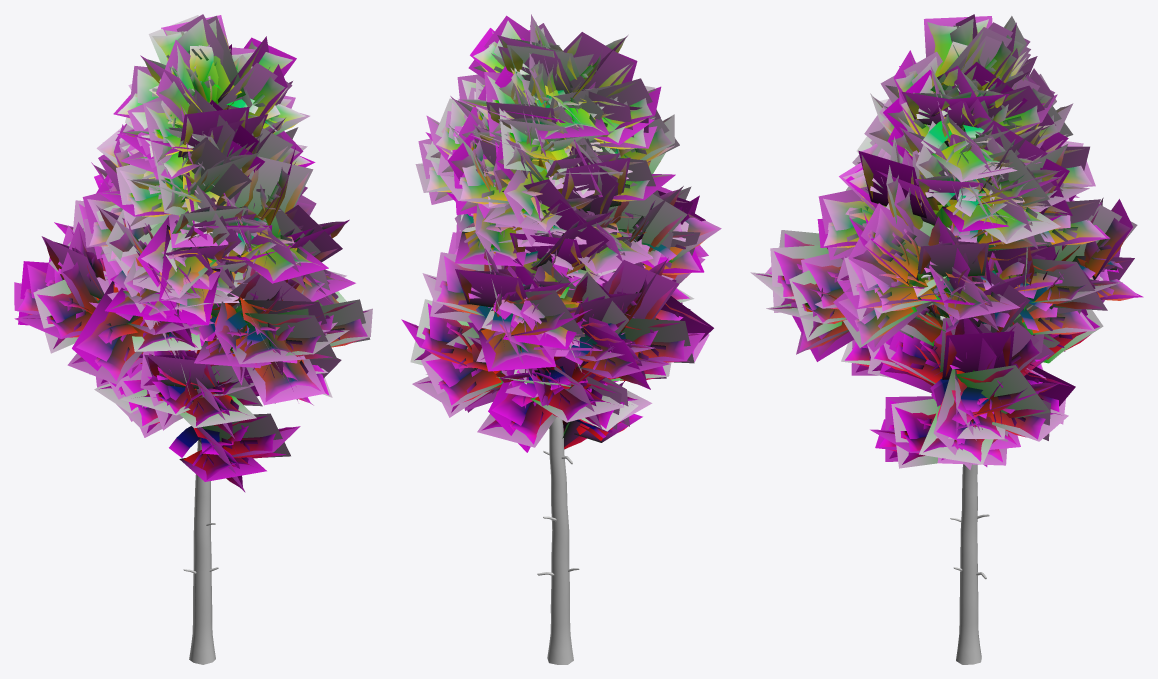
File: pine_02_1.FBX
3 renders of one model, left to right at view 1: azimuth 30°, elevation 25°; view 2: azimuth 150°, elevation 25°; view 3: azimuth 270°, elevation 25°, orthographic. The views are drawn at different scales.
Visible parts, largest first — view 1: pine_leaves_02_1_shadow, pine_leaves_02_1_lod_0, pine_tree_02_1_lod_0; view 2: pine_leaves_02_1_shadow, pine_leaves_02_1_lod_0, pine_tree_02_1_lod_0; view 3: pine_leaves_02_1_shadow, pine_leaves_02_1_lod_0, pine_tree_02_1_lod_0.
Boxes of the visible parts, bbox=[...] form: pine_leaves_02_1_shadow: bbox=[14, 14, 372, 492]; pine_leaves_02_1_lod_0: bbox=[18, 19, 368, 488]; pine_tree_02_1_lod_0: bbox=[183, 338, 218, 664]; pine_leaves_02_1_shadow: bbox=[401, 14, 721, 452]; pine_leaves_02_1_lod_0: bbox=[406, 20, 717, 448]; pine_tree_02_1_lod_0: bbox=[537, 417, 579, 664]; pine_leaves_02_1_shadow: bbox=[750, 14, 1143, 469]; pine_leaves_02_1_lod_0: bbox=[756, 18, 1138, 464]; pine_tree_02_1_lod_0: bbox=[921, 227, 989, 664].
Size of what is drawn, in the model's own units: 8.84 by 18.45 by 10.23.
